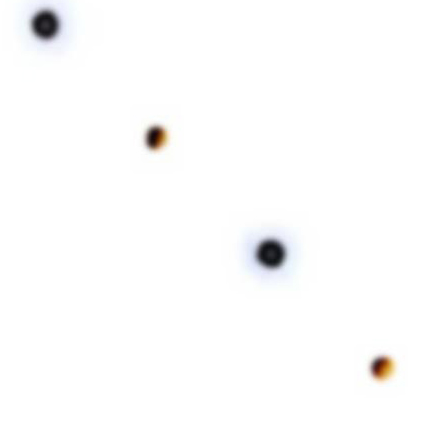cancer: (236, 215, 305, 286), (15, 2, 92, 57)
normal: (120, 102, 191, 169), (350, 338, 410, 400)
